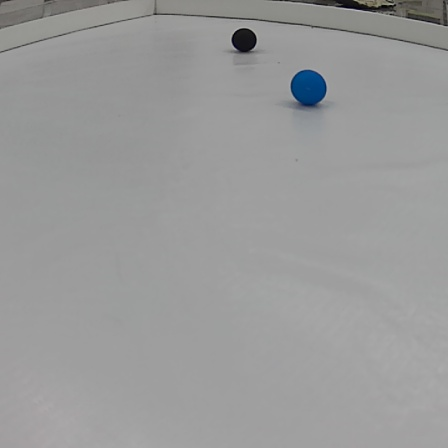black: (224, 26, 260, 52)
blue: (288, 69, 332, 104)
